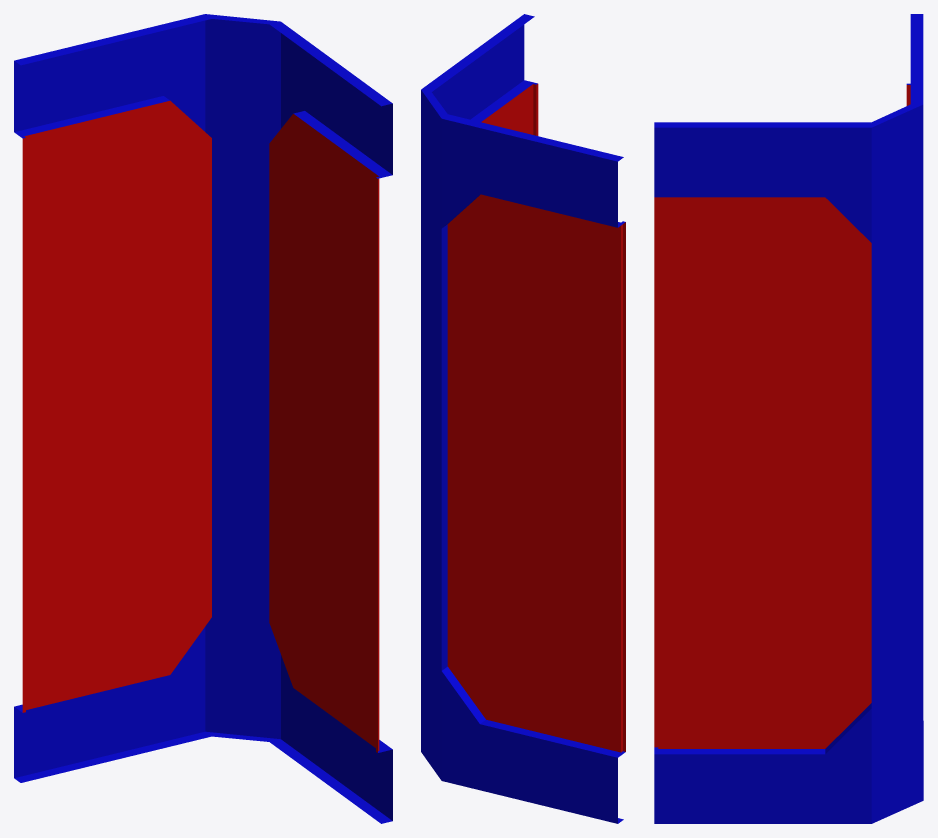
File: block5.fbx
3 views of the same model, side by side, from view 1: azimuth 30°, elevation 25°; view 2: azimuth 150°, elevation 25°; view 3: azimuth 270°, elevation 25° (orthographic). The views are drawn at different scales.
Visible parts, largest first — view 1: muro_block5; view 2: muro_block5; view 3: muro_block5.
Part boxes in pixels (bbox=[...]): muro_block5: bbox=[14, 14, 392, 823]; muro_block5: bbox=[421, 14, 625, 823]; muro_block5: bbox=[654, 14, 923, 823].
Size of the model in its own units: 105 by 300 by 105.
